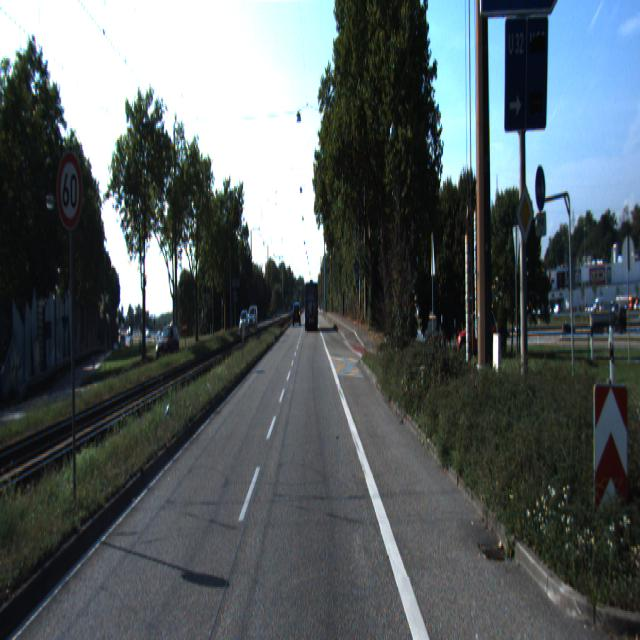Car: (457, 304, 498, 355), (155, 324, 181, 360), (304, 281, 318, 332)
